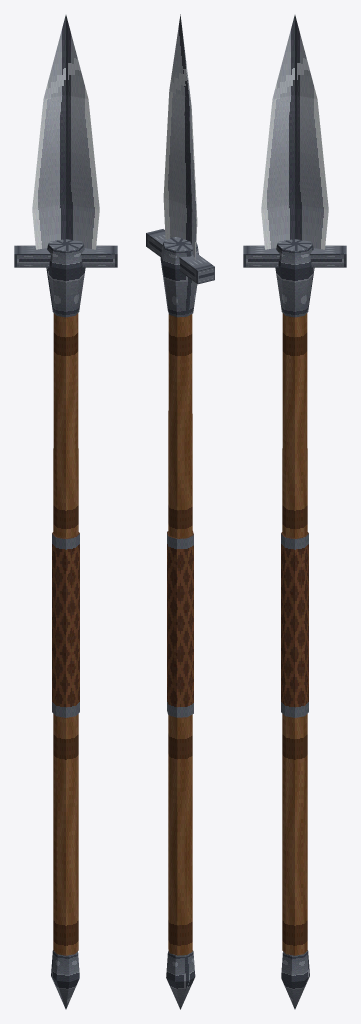
Rendered from lanca_de_ferro.glb.
3 renders of one model, left to right at view 1: azimuth 90°, elevation 25°; view 2: azimuth 210°, elevation 25°; view 3: azimuth 270°, elevation 25°, orthographic.
Parts seen in each view (by area): view 1: lanca_de_ferro; view 2: lanca_de_ferro; view 3: lanca_de_ferro.
Part boxes in pixels (x1,y1,x2,y2): lanca_de_ferro: [14, 15, 117, 1009]; lanca_de_ferro: [146, 14, 214, 1009]; lanca_de_ferro: [243, 15, 346, 1009].
Bounding box in the file's own units: 0.088 × 2.34 × 0.22.
Materials: 1 (1 with a texture image).
